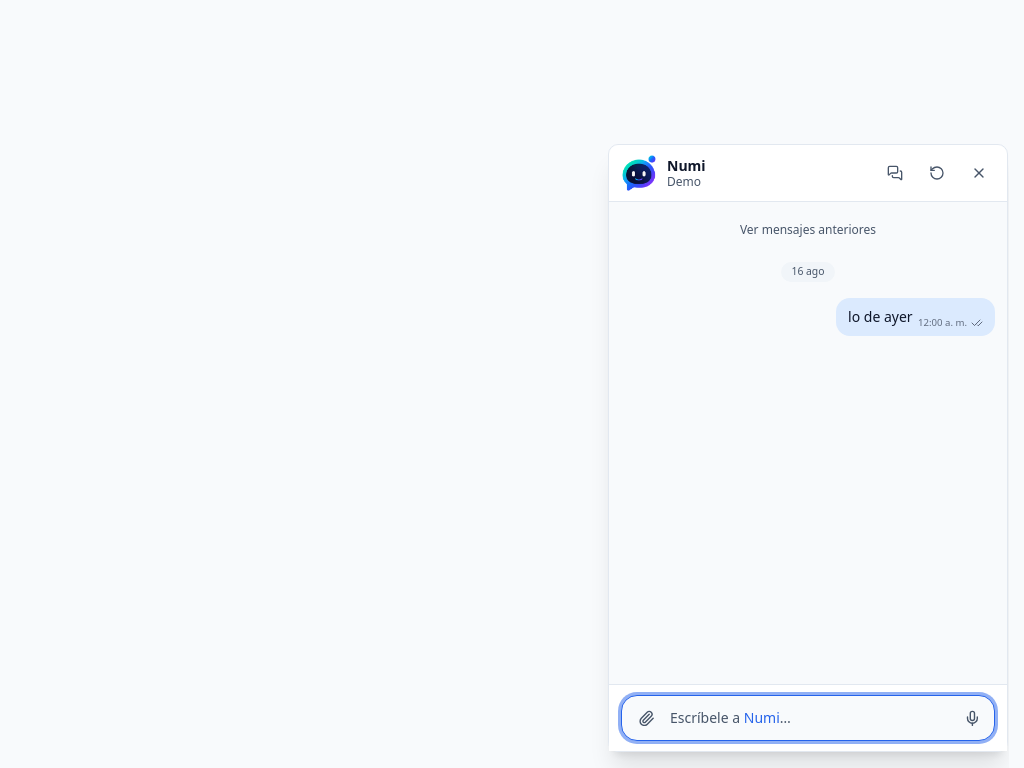
Scenario: lo escrito antes de que llegara el historial no se duplica al traer lo anterior
The width and height of the screenshot is (1024, 768).
Click the button "Ver mensajes anteriores" at (808, 230), box [728,218,888,242]
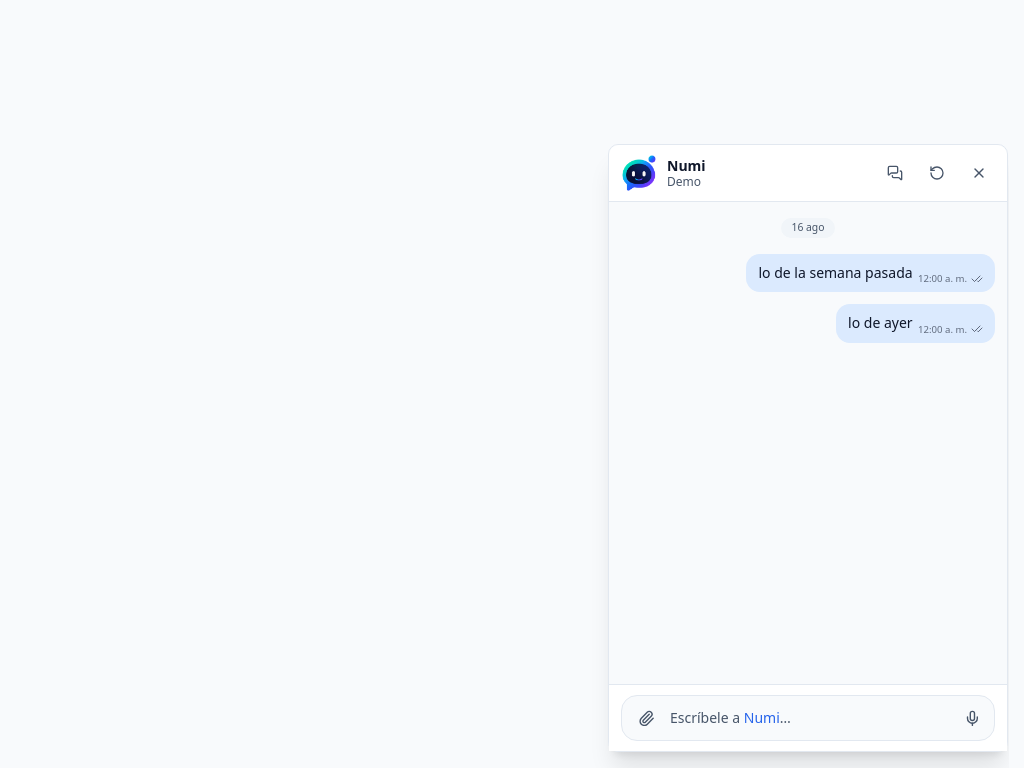
Now the text "lo de la semana pasada" is shown, box [758,263,913,282]
Now the text "lo de ayer" is shown once, box [848,313,913,332]
